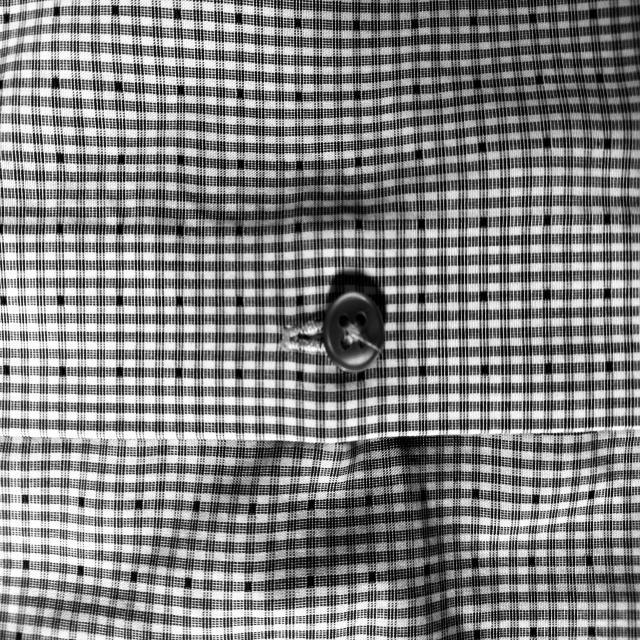Button_hike: (271, 273, 394, 376)
